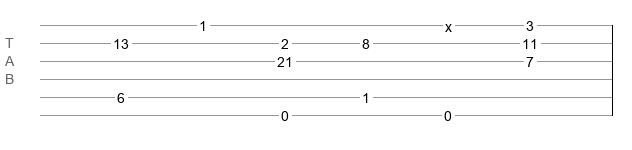0: (281, 108, 289, 118), (444, 108, 452, 118)
1: (199, 18, 207, 28), (362, 90, 370, 100)
11: (522, 36, 538, 46)
13: (113, 36, 129, 46)
2: (281, 36, 289, 46)
21: (277, 54, 293, 64)
3: (526, 18, 534, 28)
6: (117, 90, 125, 100)
7: (526, 54, 534, 64)
8: (362, 36, 370, 46)
x: (445, 19, 452, 27)
